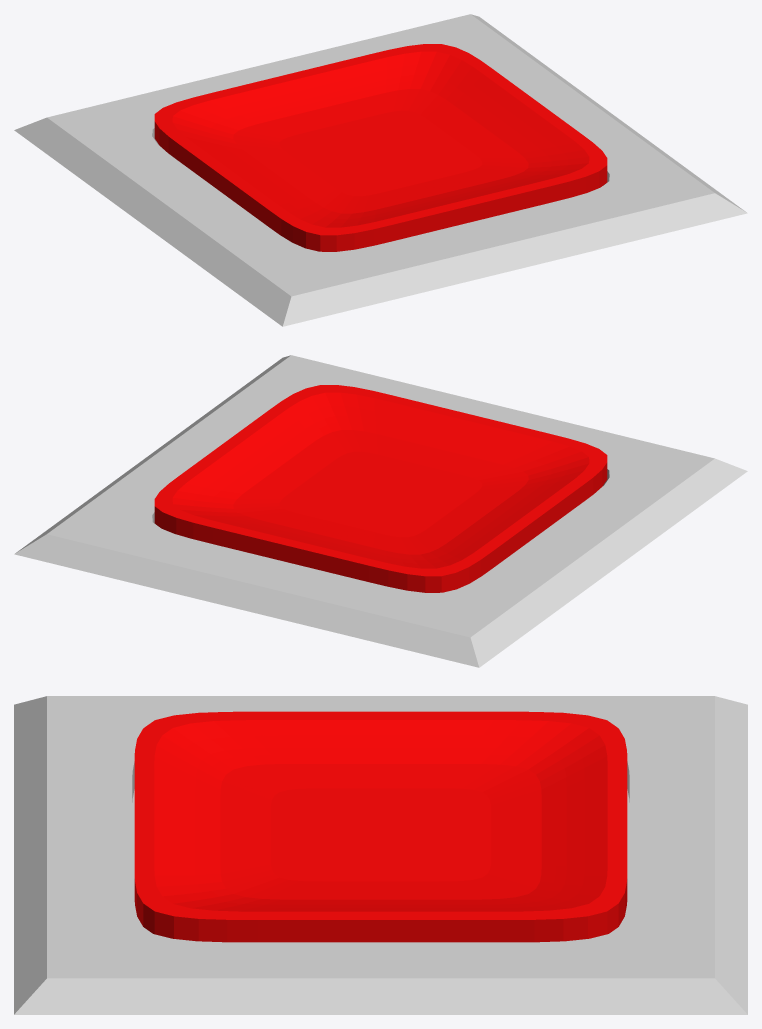
Rendered from props.fbx_b15.fbx.
The picture shows the model from 3 angles, top to bottom: view 1: azimuth 30°, elevation 25°; view 2: azimuth 150°, elevation 25°; view 3: azimuth 270°, elevation 25°; orthographic projection. The views are drawn at different scales.
Parts seen in each view (by area): view 1: Plane.018, Plane.017; view 2: Plane.018, Plane.017; view 3: Plane.018, Plane.017.
Part boxes in pixels (<box>): Plane.018: <box>14,14,747,326</box>; Plane.017: <box>154,44,607,251</box>; Plane.018: <box>14,355,747,667</box>; Plane.017: <box>154,385,607,592</box>; Plane.018: <box>14,696,747,1014</box>; Plane.017: <box>134,711,627,942</box>.
Bounding box in the file's own units: 1.5 × 0.1111 × 1.5.
